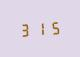five: (47, 19, 60, 35)
one: (33, 20, 46, 36)
three: (18, 21, 31, 37)
